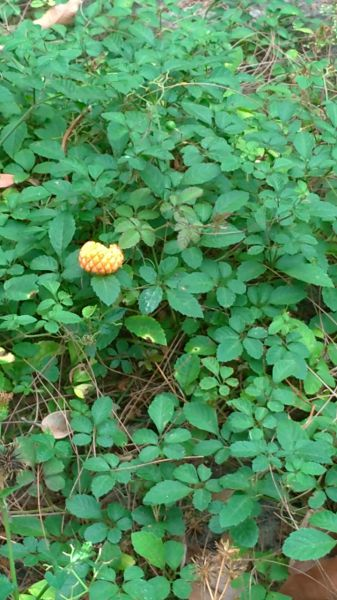eggs: (72, 236, 129, 279)
